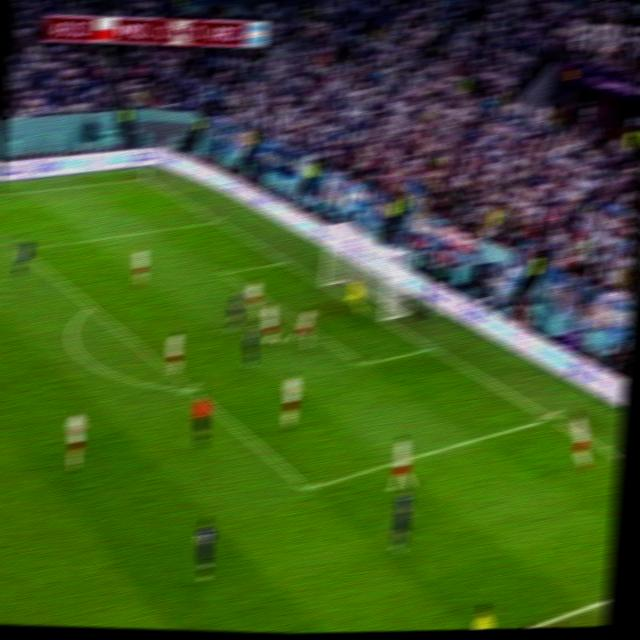bigarea_bottom_inner: (296, 475, 319, 501)
bigarea_bottom_outter: (539, 407, 562, 429)
bigarea_top_inner: (15, 242, 33, 261)
bigarea_top_outter: (207, 212, 225, 228)
bottom_arc_area_intersection: (180, 378, 200, 399)
corner: (133, 171, 154, 185)
smallarea_bottom_inner: (352, 350, 375, 377)
smallarea_bottom_outter: (420, 337, 441, 356)
smallarea_top_inner: (213, 264, 234, 281)
smallarea_top_outter: (275, 251, 295, 271)
top_arc_area_intersection: (80, 296, 100, 315)
